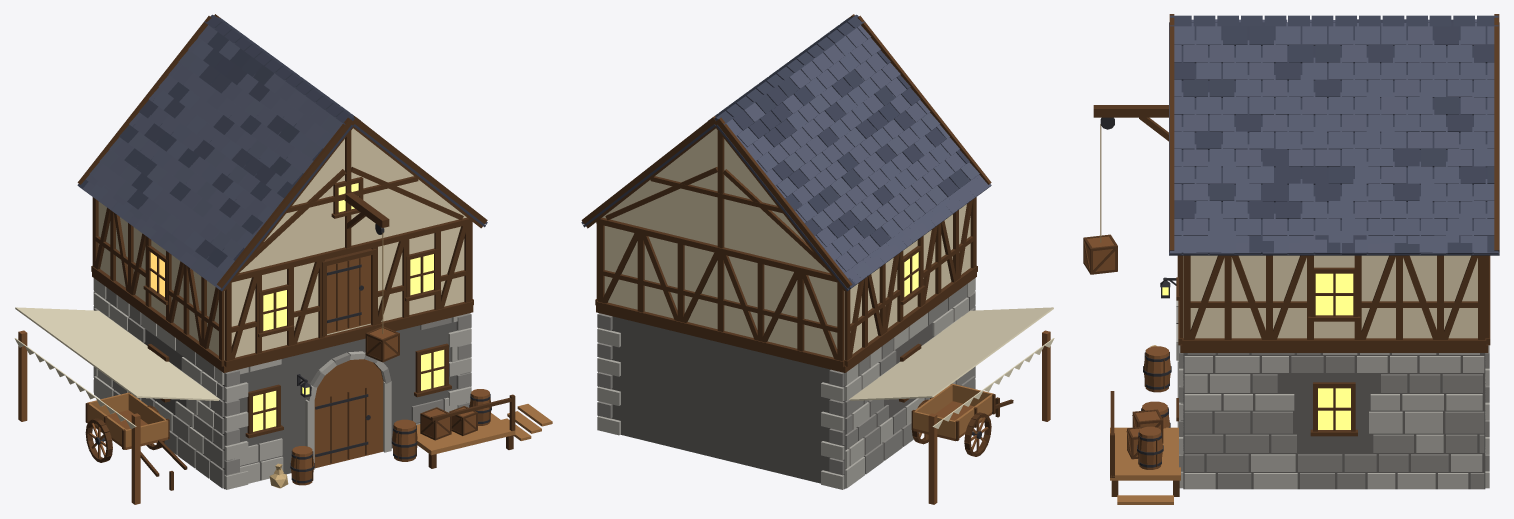
File: Pack_Warehouse.fbx
The picture shows the model from 3 angles, left to right: view 1: azimuth 30°, elevation 25°; view 2: azimuth 150°, elevation 25°; view 3: azimuth 270°, elevation 25°; orthographic projection. The views are drawn at different scales.
Visible parts, largest first — view 1: Pack_Warehouse_LOD0; view 2: Pack_Warehouse_LOD0; view 3: Pack_Warehouse_LOD0.
Part boxes in pixels (x1,y1,x2,y2): Pack_Warehouse_LOD0: [14, 14, 552, 504]; Pack_Warehouse_LOD0: [581, 14, 1054, 504]; Pack_Warehouse_LOD0: [1083, 14, 1499, 504].
Size of what is drawn, in the model's own units: 10.98 by 9.49 by 8.82.
